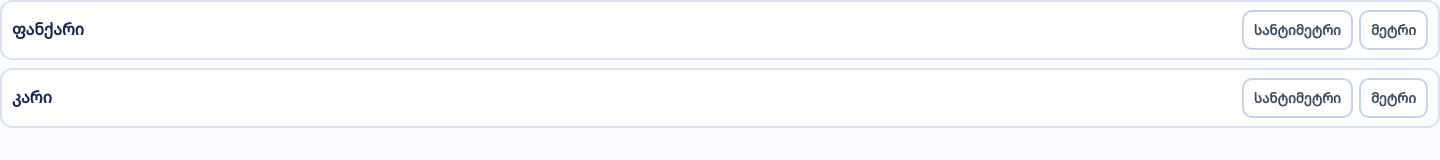
Test: boards: choosing a unit › marks the chosen unit with a tick and a word, not a colour alone
Click the radio button labelled "სანტიმეტრი" in the row of "ფანქარი".
click(1297, 30)  # box left=1242, top=10, right=1353, bottom=50
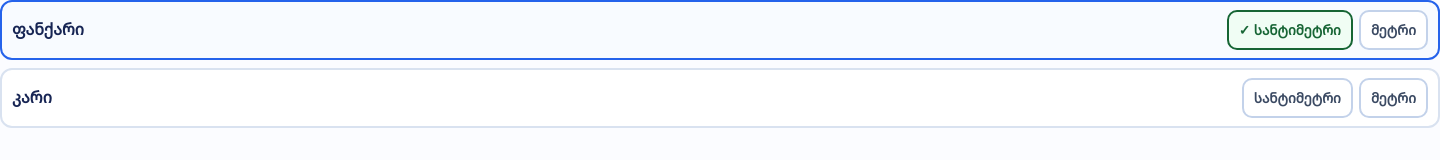
Result: the element with class "is-chosen" shows "✓" at left=1227, top=10, right=1353, bottom=50
